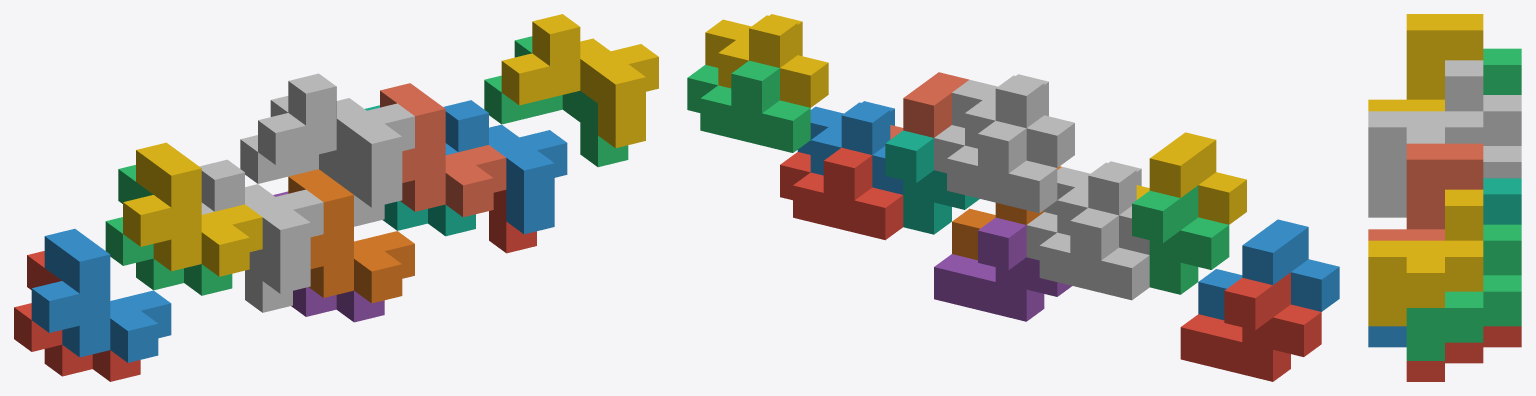
The model's file is tiling.obj.
The picture shows the model from 3 angles, left to right: view 1: azimuth 30°, elevation 25°; view 2: azimuth 150°, elevation 25°; view 3: azimuth 270°, elevation 25°; orthographic projection. The views are drawn at different scales.
Visible parts, largest first — view 1: copy_2_domain_4, copy_2_domain_8, copy_1_domain_2, copy_1_domain_4, copy_1_domain_6, copy_1_domain_8, copy_2_domain_2, copy_2_domain_6, copy_2_domain_7, copy_1_domain_1, copy_1_domain_3, copy_2_domain_3 (+4 smaller); view 2: copy_1_domain_1, copy_1_domain_5, copy_2_domain_5, copy_2_domain_1, copy_2_domain_7, copy_2_domain_3, copy_1_domain_3, copy_1_domain_2, copy_2_domain_8, copy_2_domain_4, copy_1_domain_4, copy_1_domain_7 (+4 smaller); view 3: copy_2_domain_8, copy_2_domain_7, copy_2_domain_4, copy_1_domain_4, copy_1_domain_8, copy_2_domain_3, copy_2_domain_5, copy_1_domain_3, copy_1_domain_7, copy_2_domain_2, copy_2_domain_6.
Part boxes in pixels (x1=…): copy_2_domain_4: x1=258, y1=73, x2=414, y2=207; copy_2_domain_8: x1=501, y1=14, x2=658, y2=148; copy_1_domain_2: x1=31, y1=228, x2=171, y2=362; copy_1_domain_4: x1=123, y1=142, x2=262, y2=276; copy_1_domain_6: x1=288, y1=169, x2=414, y2=303; copy_1_domain_8: x1=380, y1=83, x2=506, y2=217; copy_2_domain_2: x1=199, y1=159, x2=323, y2=293; copy_2_domain_6: x1=443, y1=100, x2=567, y2=234; copy_2_domain_7: x1=484, y1=36, x2=628, y2=167; copy_1_domain_1: x1=14, y1=251, x2=140, y2=381; copy_1_domain_3: x1=105, y1=165, x2=232, y2=295; copy_2_domain_3: x1=240, y1=96, x2=384, y2=226; copy_1_domain_1: x1=1180, y1=272, x2=1321, y2=381; copy_1_domain_5: x1=934, y1=217, x2=1071, y2=321; copy_2_domain_5: x1=780, y1=147, x2=903, y2=240; copy_2_domain_1: x1=1026, y1=208, x2=1149, y2=300; copy_2_domain_7: x1=687, y1=60, x2=810, y2=152; copy_2_domain_3: x1=934, y1=121, x2=1057, y2=213; copy_1_domain_3: x1=1132, y1=185, x2=1229, y2=294; copy_1_domain_2: x1=1198, y1=219, x2=1339, y2=320; copy_2_domain_8: x1=705, y1=14, x2=828, y2=107; copy_2_domain_4: x1=952, y1=74, x2=1074, y2=167; copy_1_domain_4: x1=1136, y1=132, x2=1246, y2=224; copy_1_domain_7: x1=885, y1=130, x2=979, y2=234; copy_2_domain_8: x1=1368, y1=189, x2=1483, y2=326; copy_2_domain_7: x1=1406, y1=224, x2=1521, y2=360; copy_2_domain_4: x1=1368, y1=60, x2=1483, y2=196; copy_1_domain_4: x1=1368, y1=14, x2=1483, y2=111; copy_1_domain_8: x1=1368, y1=143, x2=1483, y2=240; copy_2_domain_3: x1=1483, y1=95, x2=1521, y2=178; copy_2_domain_5: x1=1406, y1=326, x2=1521, y2=381; copy_1_domain_3: x1=1483, y1=48, x2=1521, y2=94; copy_1_domain_7: x1=1483, y1=178, x2=1521, y2=224; copy_2_domain_2: x1=1368, y1=196, x2=1406, y2=217; copy_2_domain_6: x1=1368, y1=326, x2=1406, y2=347.
Bounding box in the file's own units: 20 × 7 × 4.
